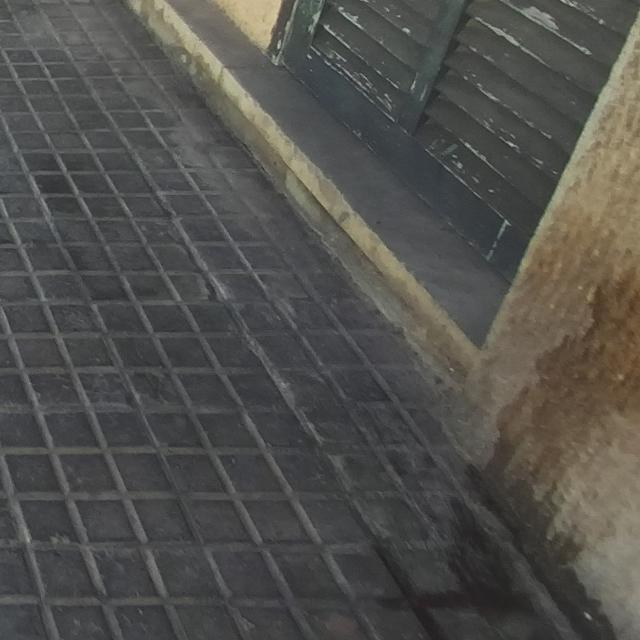calcada_quebrada: (134, 216, 222, 303)
